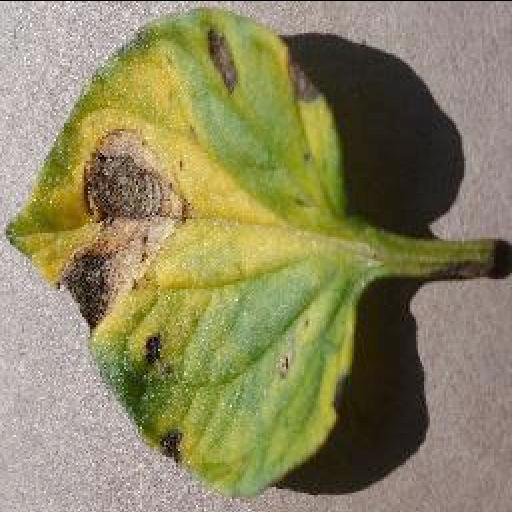disease_tomato: (6, 9, 360, 494)
